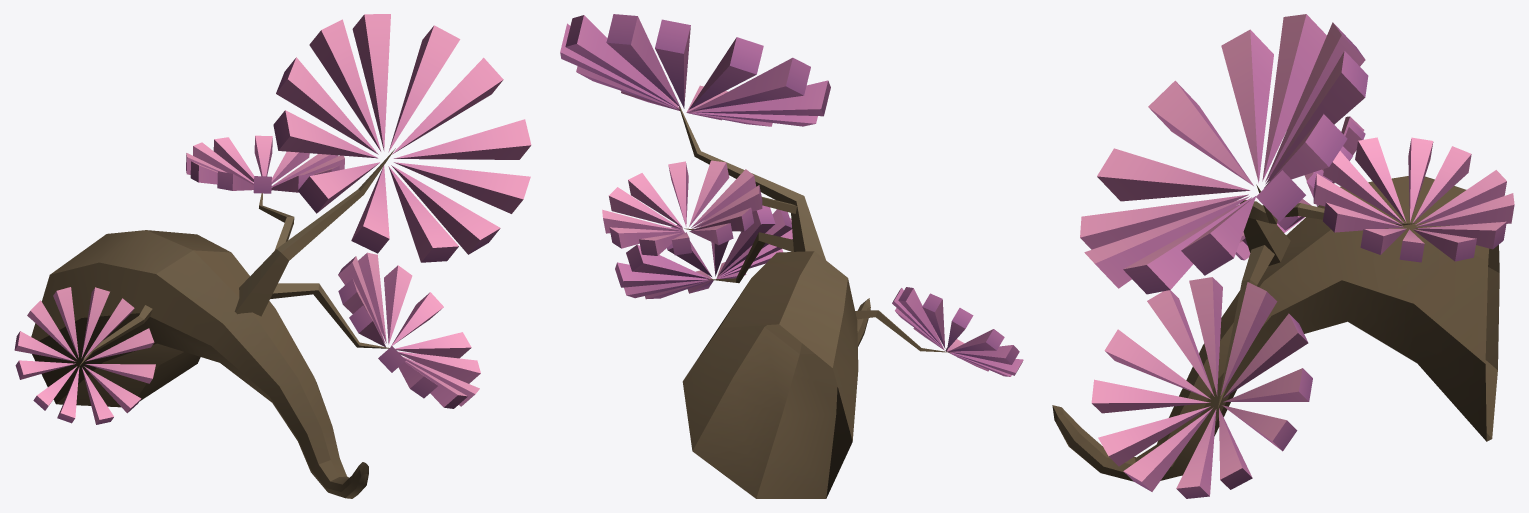
The model's file is branch_pink_2.glb.
3 views of the same model, side by side, from view 1: azimuth 30°, elevation 25°; view 2: azimuth 150°, elevation 25°; view 3: azimuth 270°, elevation 25° (orthographic). The views are drawn at different scales.
Parts seen in each view (by area): view 1: branch_pink_2; view 2: branch_pink_2; view 3: branch_pink_2.
Boxes of the visible parts, x1=… form: branch_pink_2: x1=14, y1=14, x2=531, y2=498; branch_pink_2: x1=560, y1=14, x2=1023, y2=498; branch_pink_2: x1=1052, y1=14, x2=1514, y2=498.
Bounding box in the file's own units: 3.19 × 2.59 × 2.16.
1 material, 1 textured.
